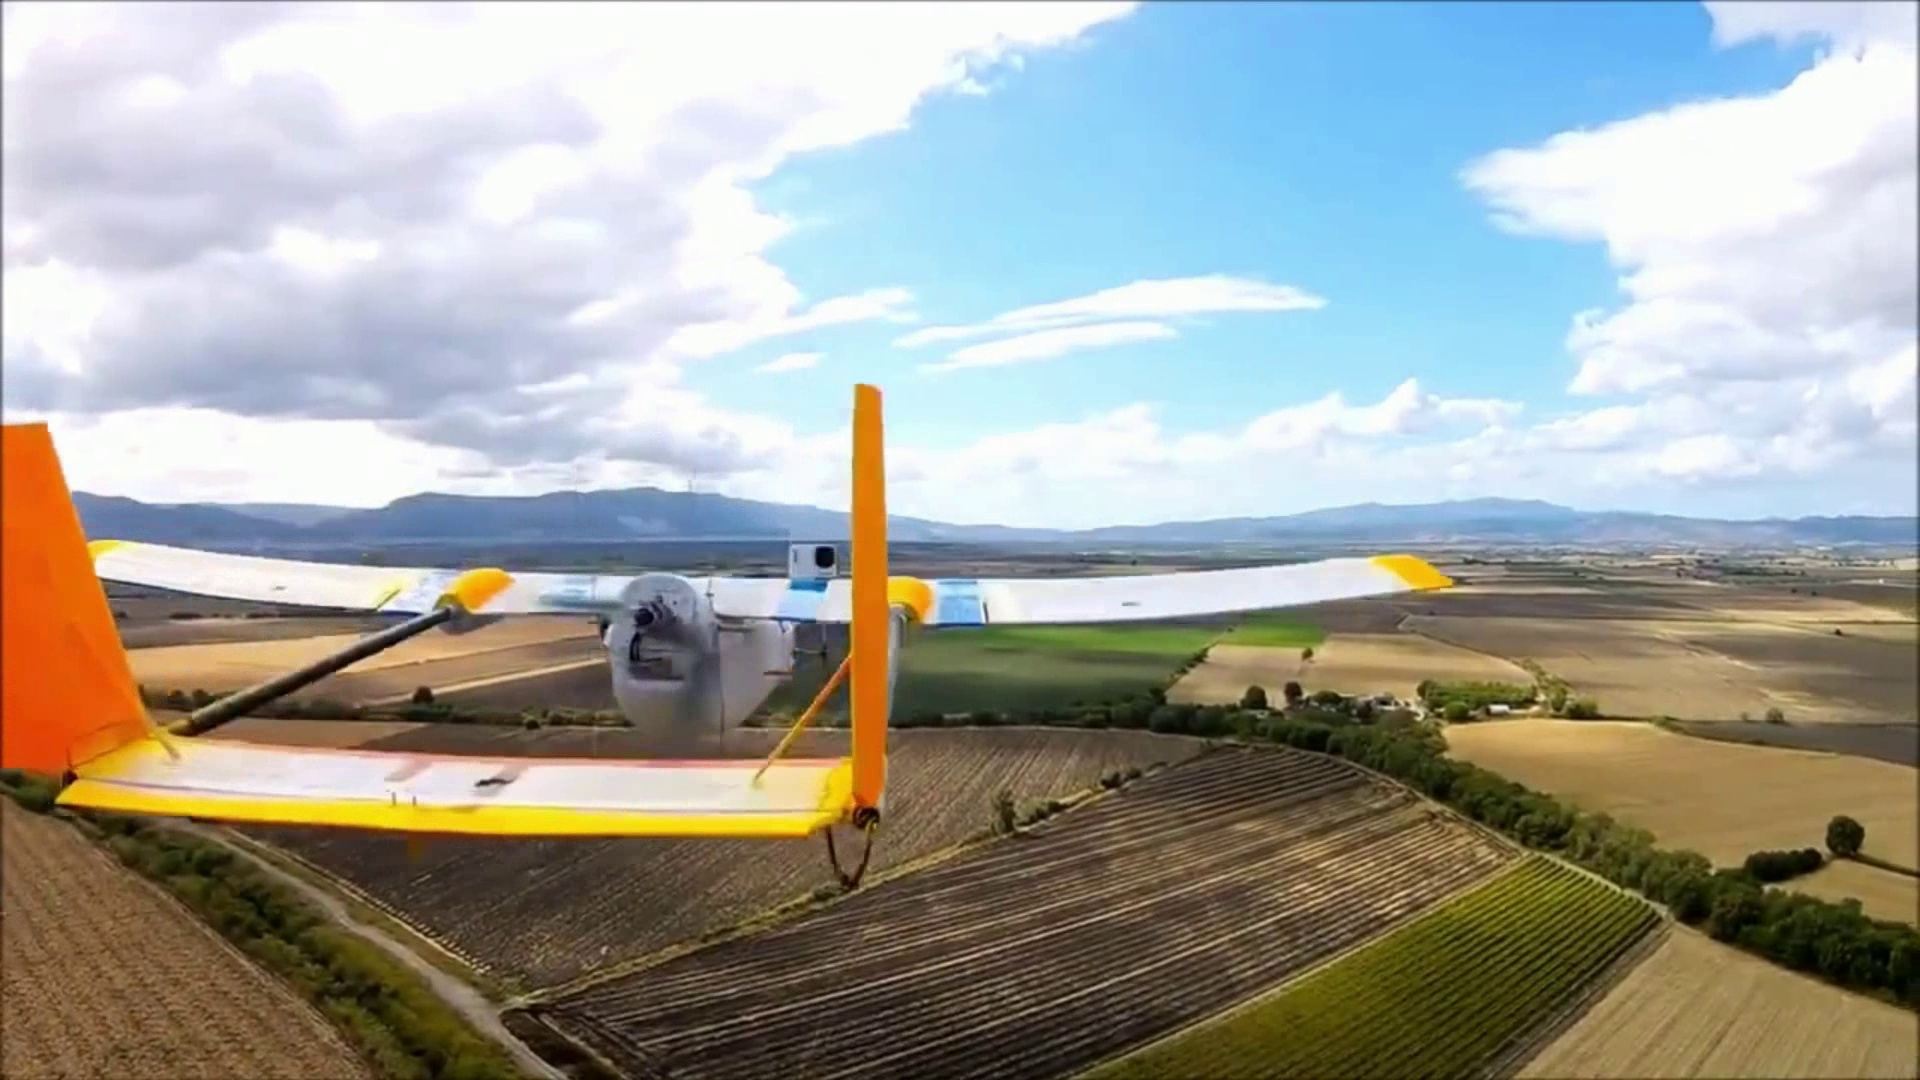airplane: (13, 386, 1540, 874)
